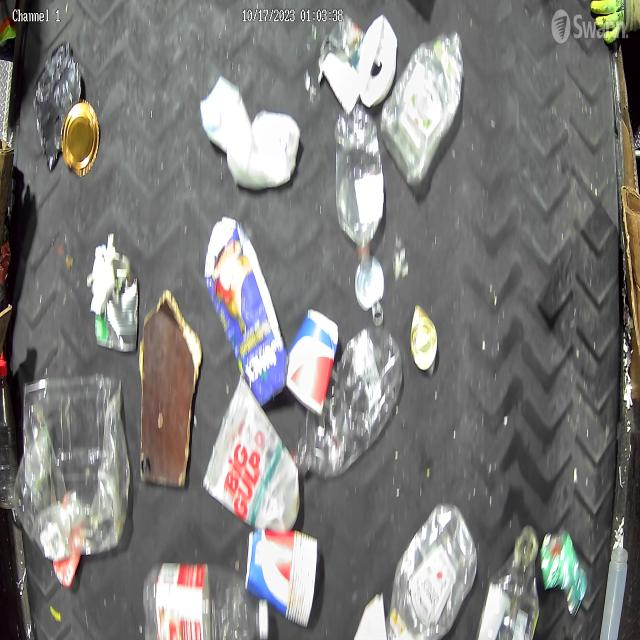can: (94, 253, 138, 351), (61, 99, 100, 179), (540, 528, 578, 596), (408, 304, 438, 374)
non_white_jug: (204, 217, 289, 409)
plastic_bottle: (295, 320, 403, 479), (384, 27, 466, 185), (387, 501, 477, 640), (144, 560, 270, 640), (334, 101, 386, 263), (479, 534, 544, 640), (0, 362, 20, 508)
